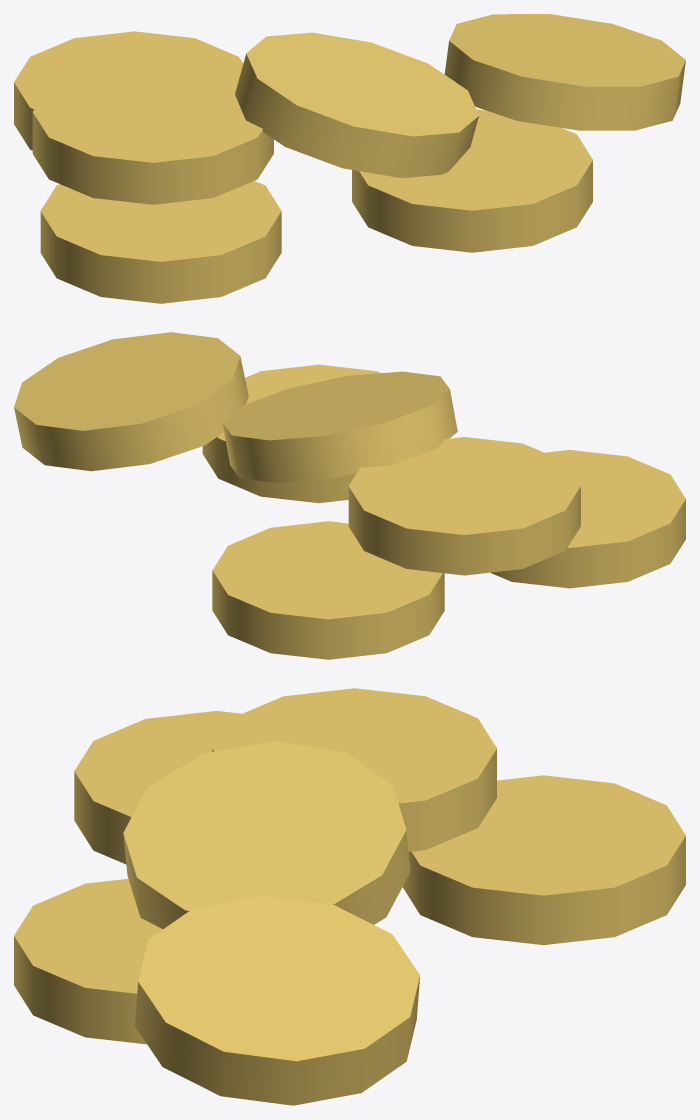
File: mine_coins.glb
3 renders of one model, top to bottom at view 1: azimuth 30°, elevation 25°; view 2: azimuth 150°, elevation 25°; view 3: azimuth 270°, elevation 25°, orthographic. The views are drawn at different scales.
Parts seen in each view (by area): view 1: coins_3; view 2: coins_3; view 3: coins_3.
Boxes of the visible parts, <box> form: coins_3: <box>14,14,685,303</box>; coins_3: <box>14,332,685,659</box>; coins_3: <box>14,688,685,1105</box>.
Bounding box in the file's own units: 6.12 × 1.16 × 4.72.
